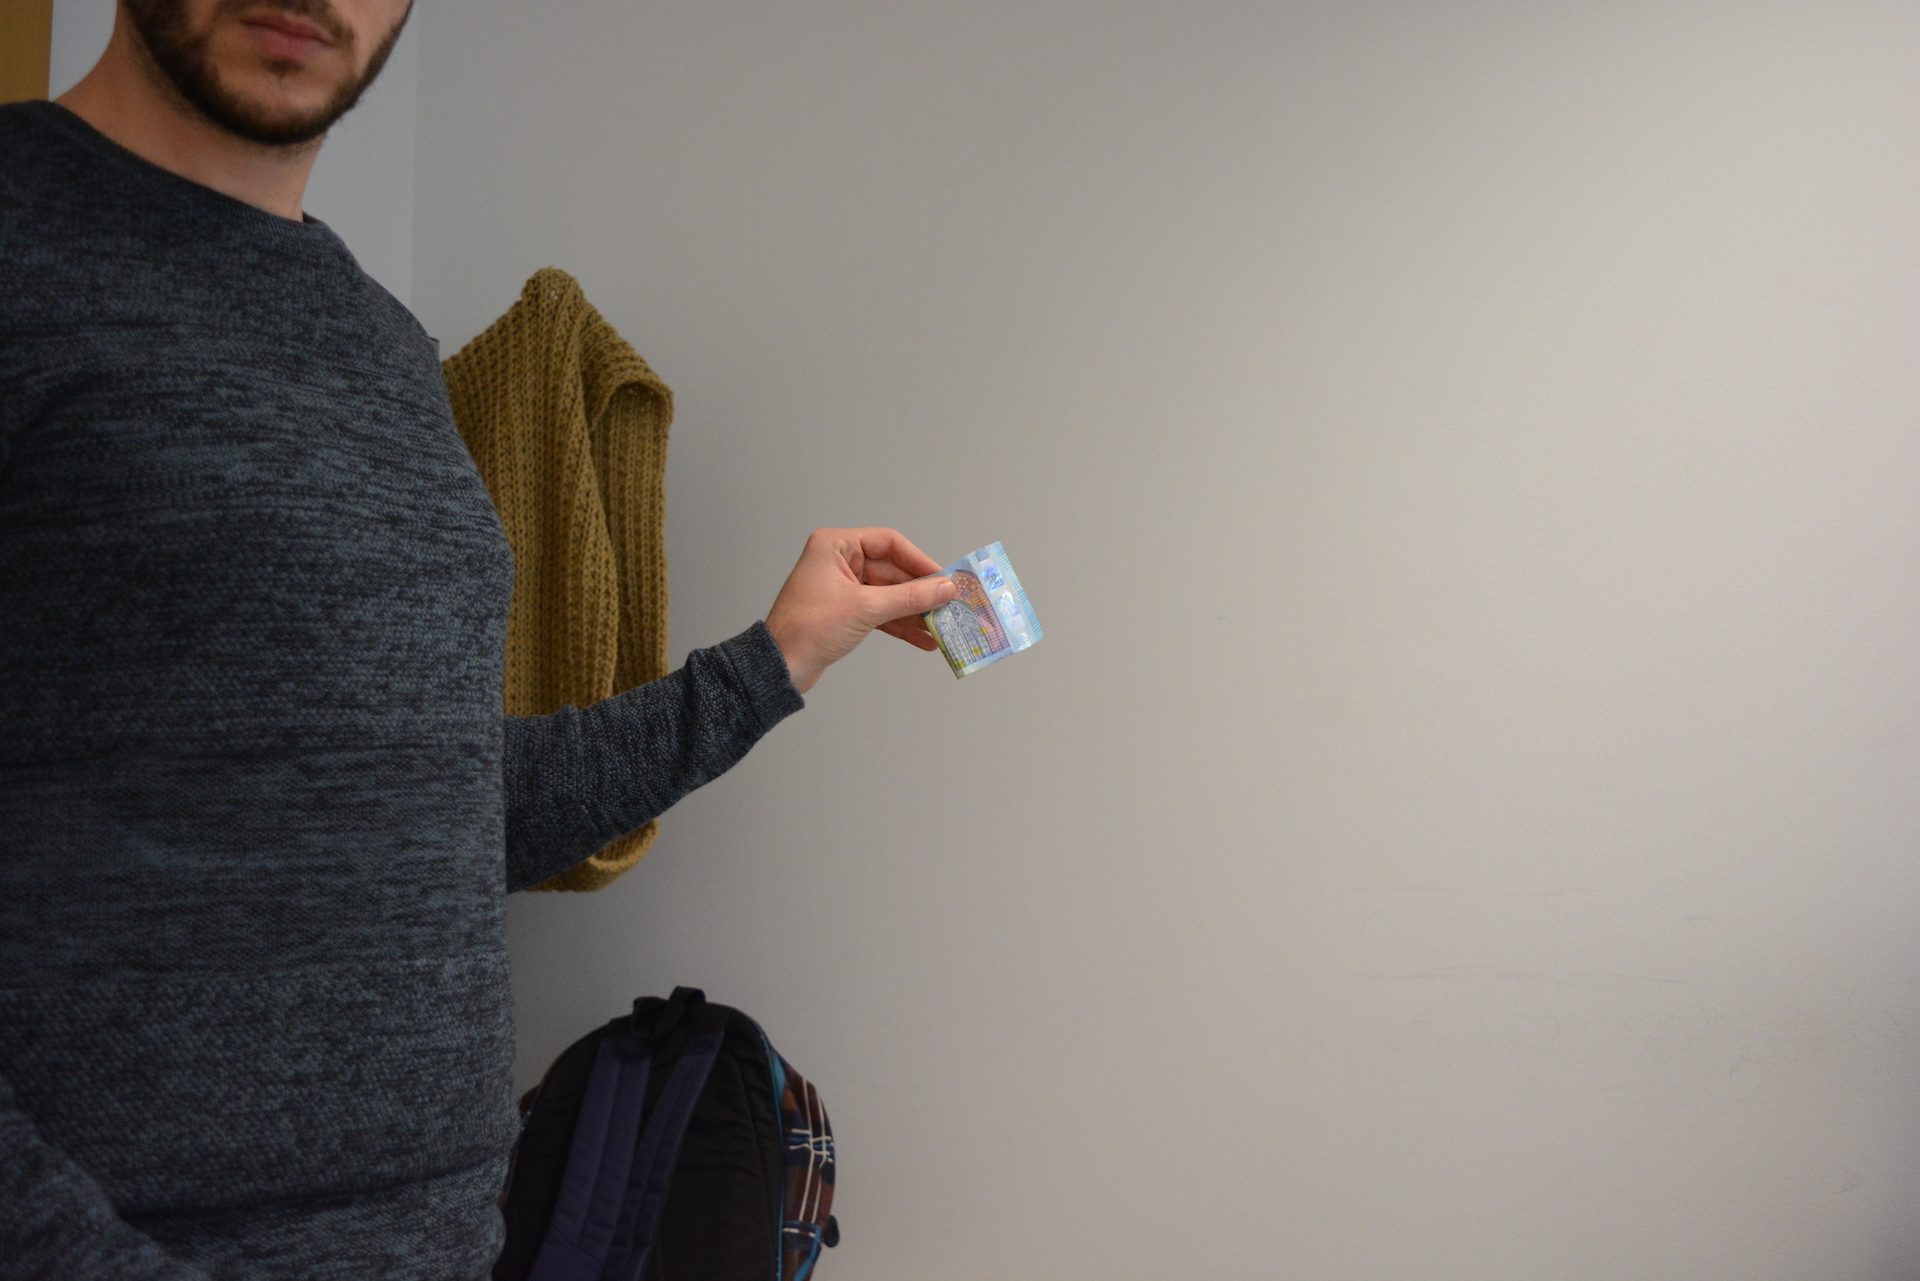billete: (906, 540, 1046, 682)
